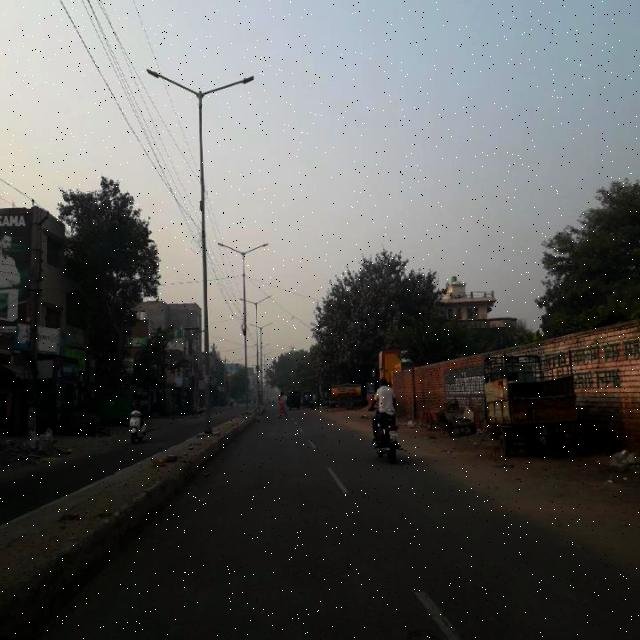D44: (415, 580, 459, 638)
